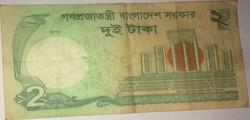2 taka: (2, 5, 249, 109)
